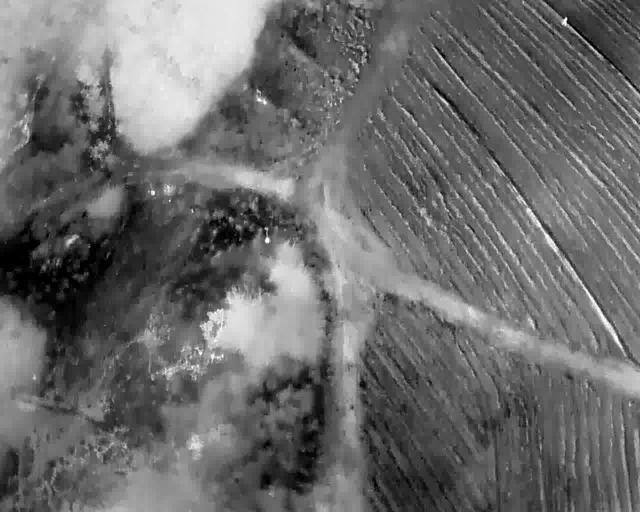person: (561, 15, 567, 26)
